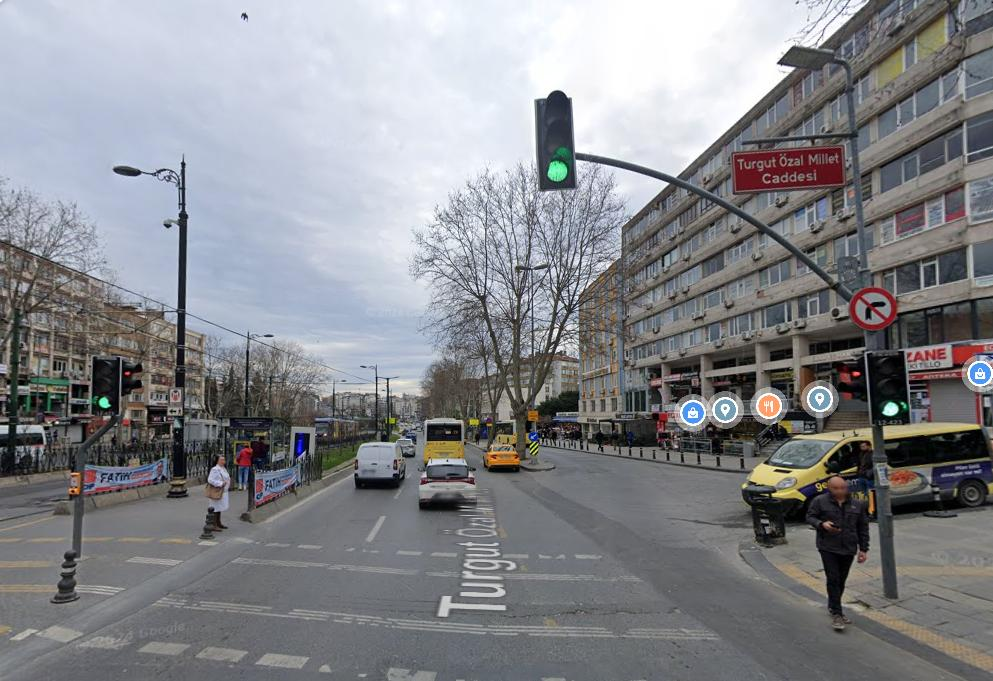greenlight: (537, 94, 576, 193), (868, 346, 911, 424), (91, 353, 121, 418)
rightturnsareforbidden: (851, 287, 896, 329)
